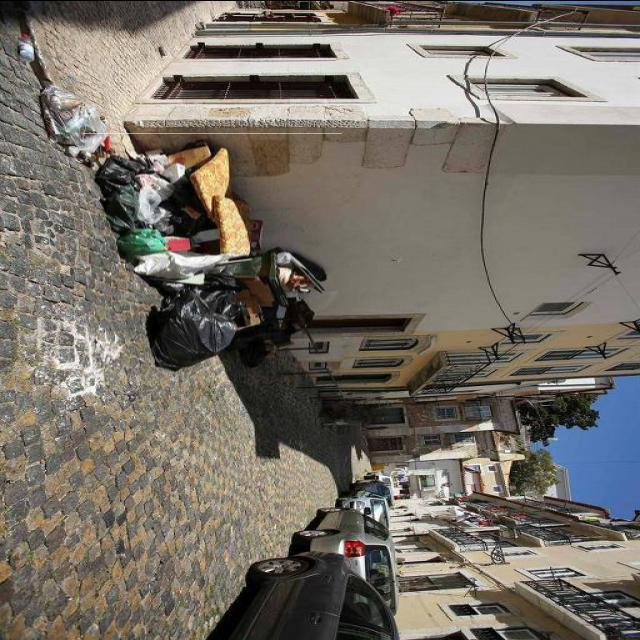Trashbag: (144, 283, 241, 379), (92, 149, 156, 221)
